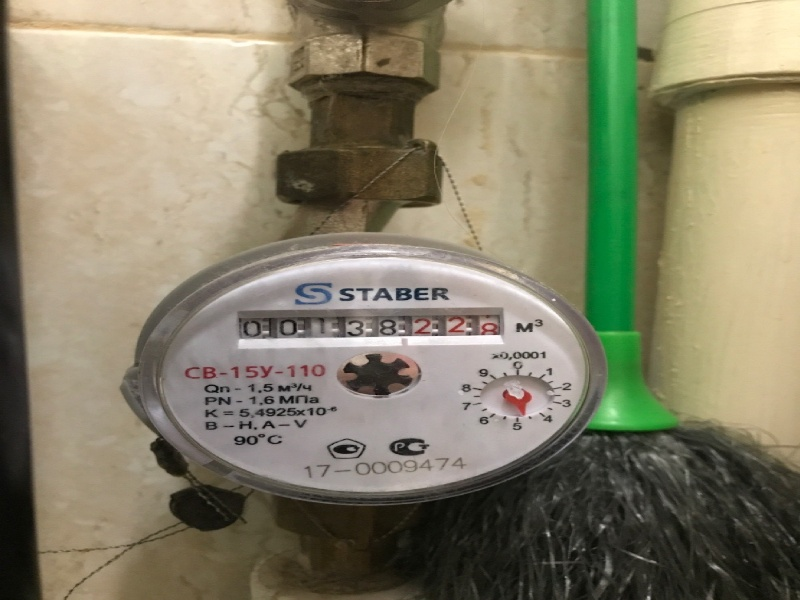meter: (219, 310, 511, 343)
